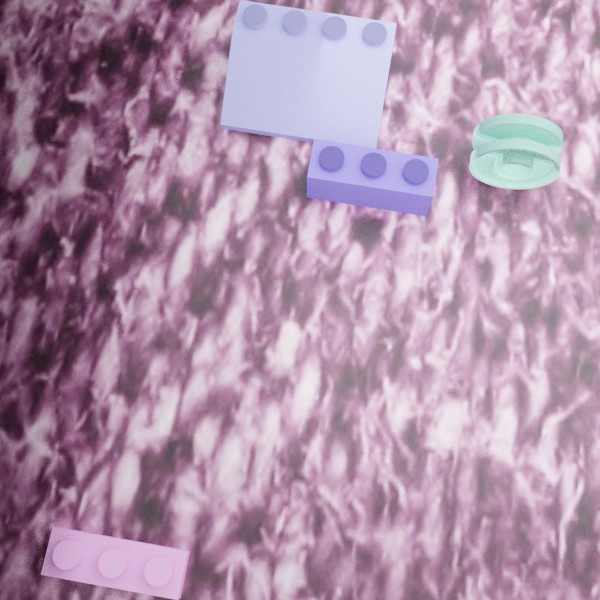lego: (220, 0, 396, 152), (40, 526, 190, 600), (306, 139, 438, 216), (469, 113, 563, 189)
